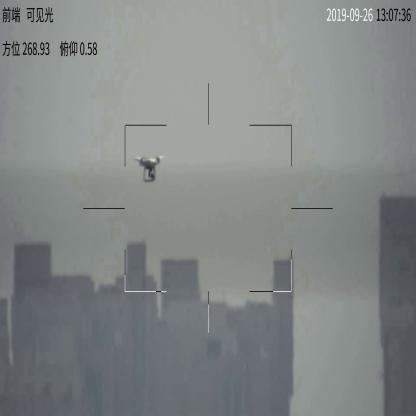uav: (134, 152, 162, 186)
